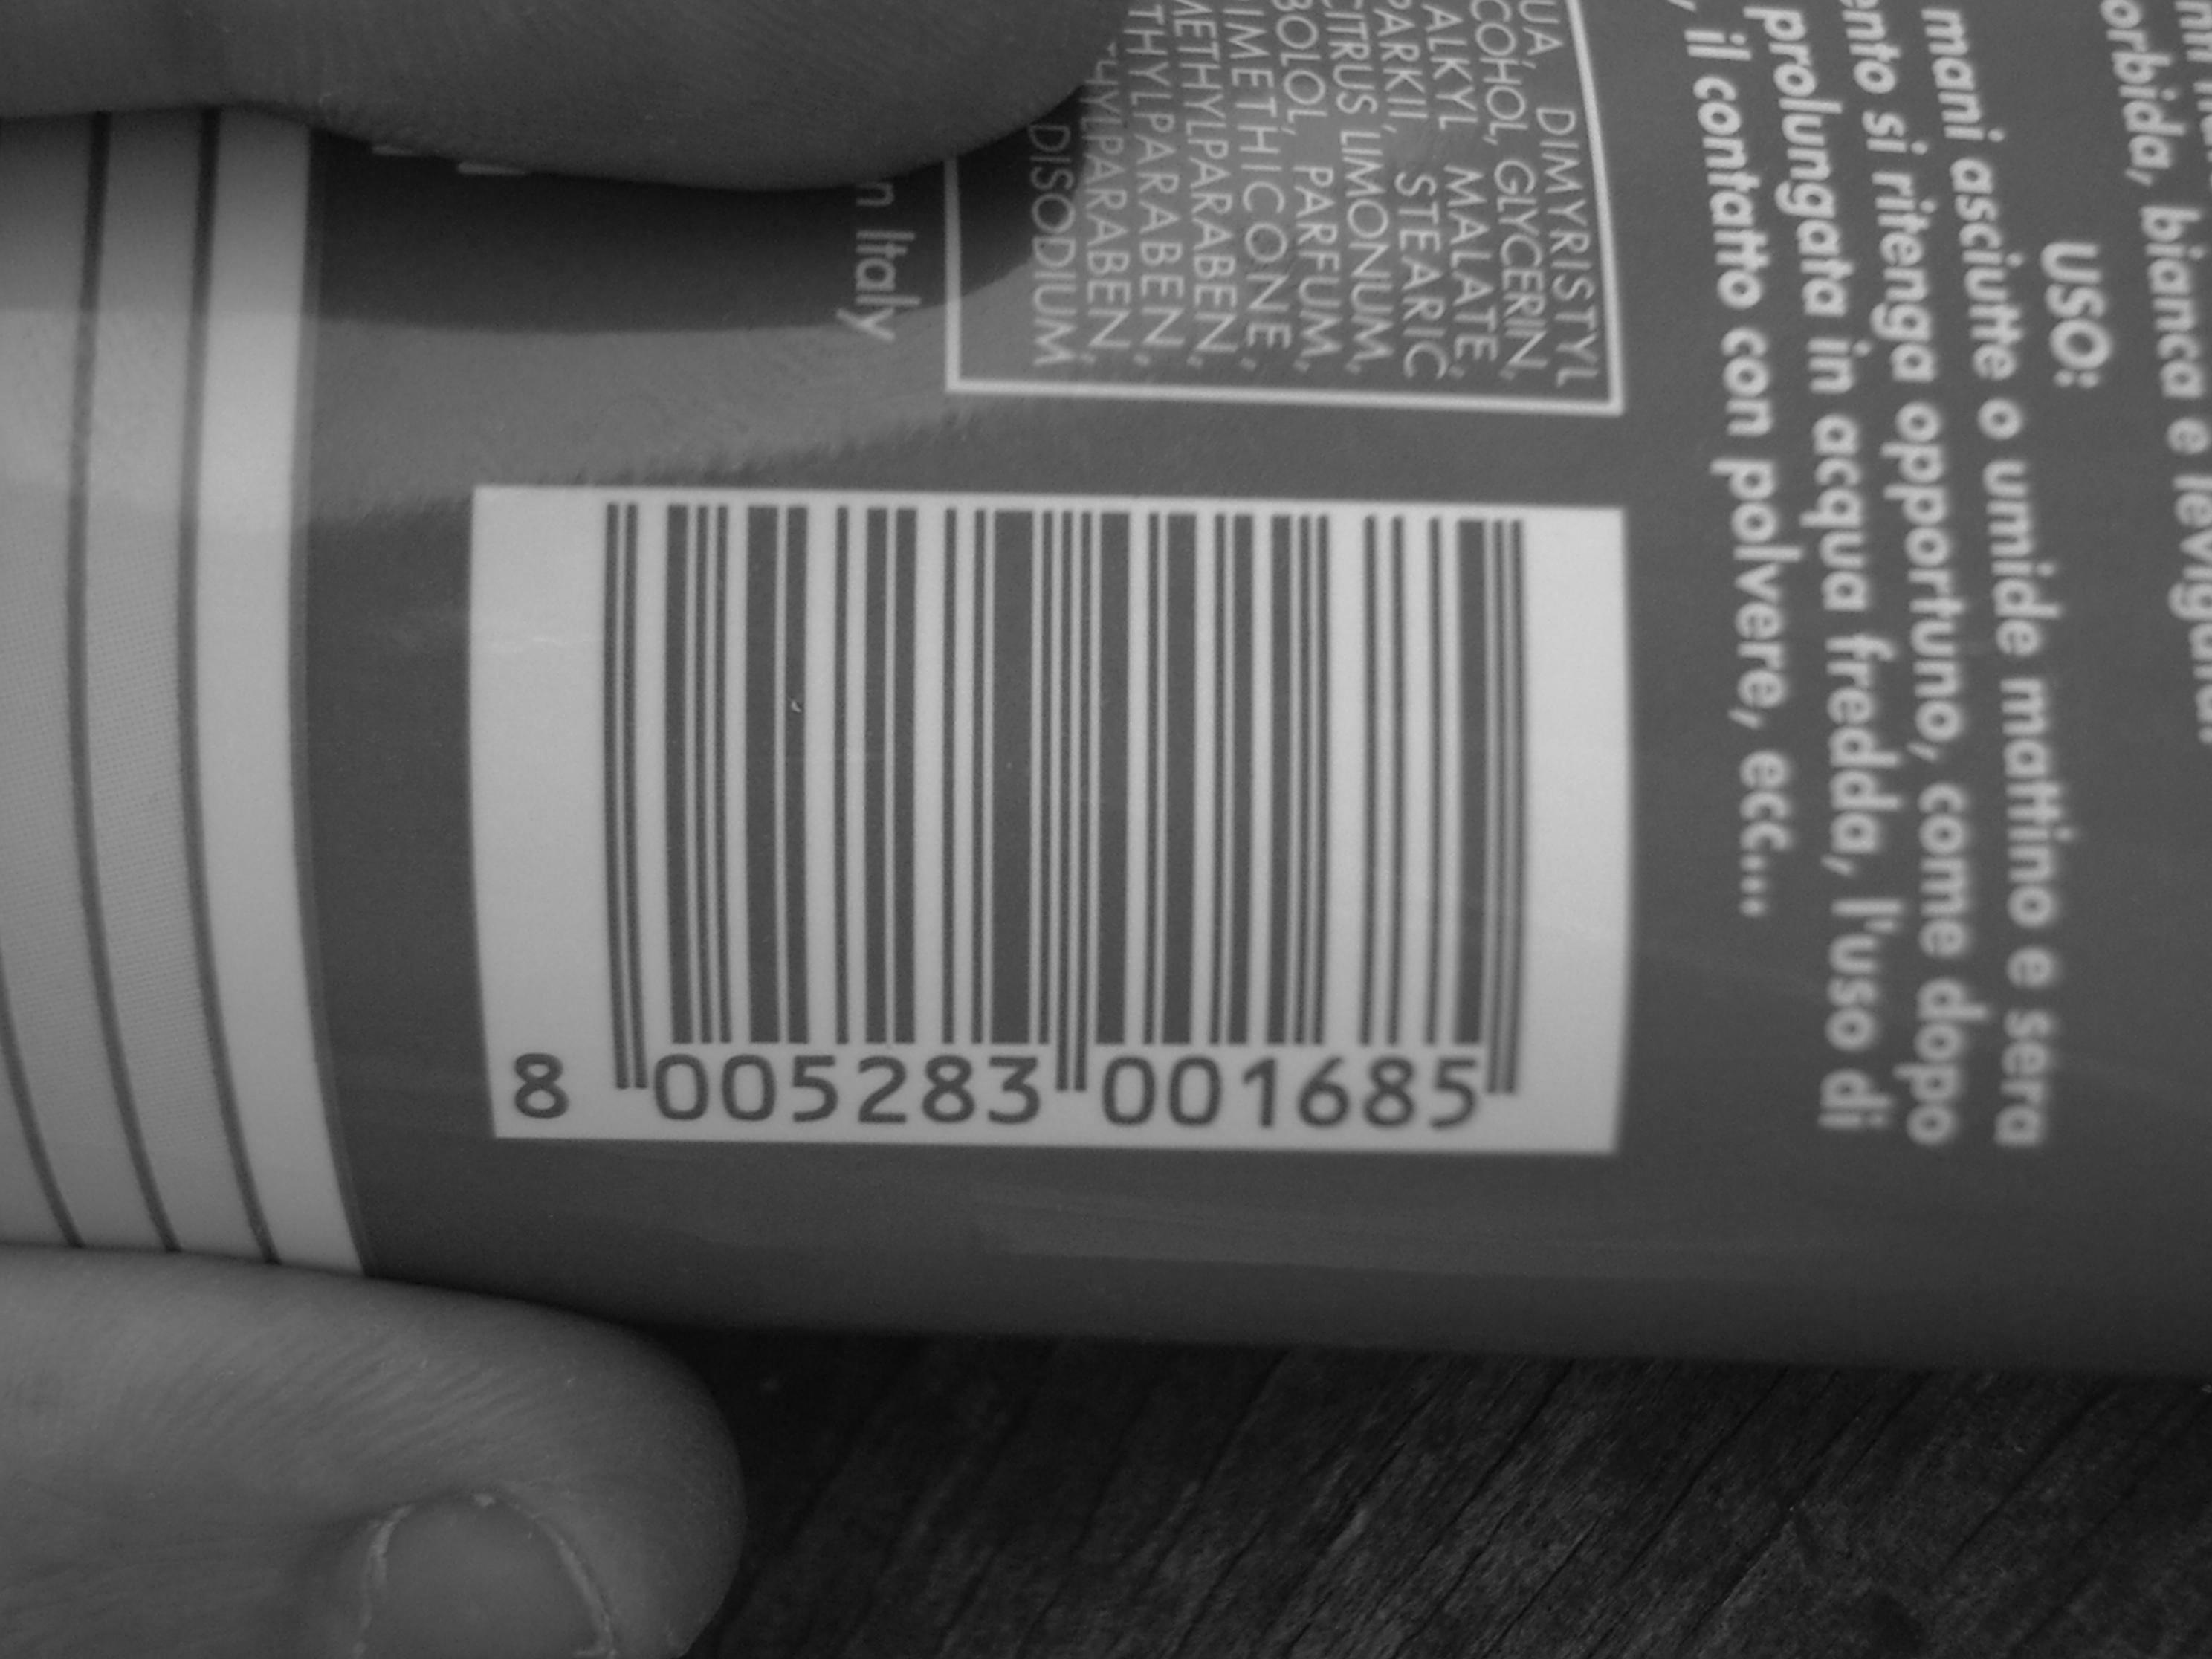Barcode: (517, 486, 1599, 1148)
